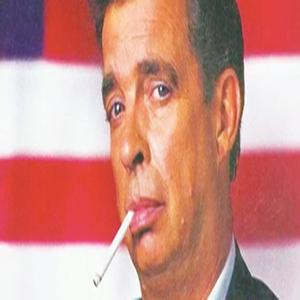cigarette: (92, 209, 134, 289)
